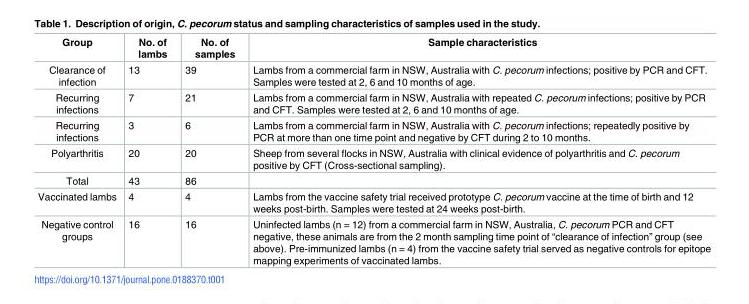table: (37, 37, 710, 265)
table column: (243, 37, 710, 265), (37, 37, 121, 265), (175, 37, 243, 265), (121, 37, 175, 265)
table column header: (37, 37, 710, 61)
table row: (37, 216, 710, 265), (37, 61, 710, 89), (37, 89, 710, 117), (37, 117, 710, 145), (37, 145, 710, 173), (37, 188, 710, 216), (37, 37, 710, 61), (37, 173, 710, 188)
